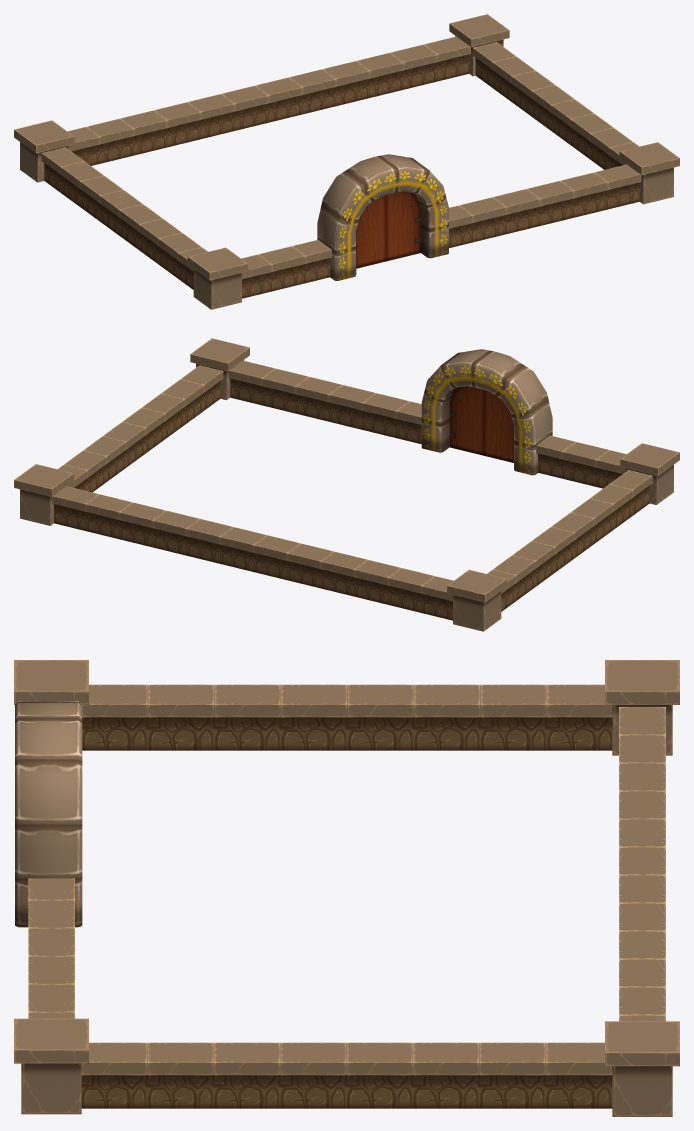
File: Gate_02.FBX
3 renders of one model, top to bottom at view 1: azimuth 30°, elevation 25°; view 2: azimuth 150°, elevation 25°; view 3: azimuth 270°, elevation 25°, orthographic. The views are drawn at different scales.
Visible parts, largest first — view 1: Gate_02; view 2: Gate_02; view 3: Gate_02.
Part boxes in pixels (x1,y1,x2,y2): Gate_02: (14, 14, 679, 309); Gate_02: (14, 338, 679, 631); Gate_02: (14, 660, 679, 1116).
Size of the model in its own units: 349 by 68.66 by 250.
